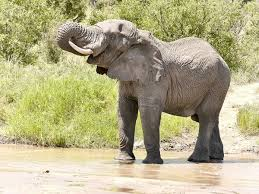Elephant: (43, 13, 239, 166)
